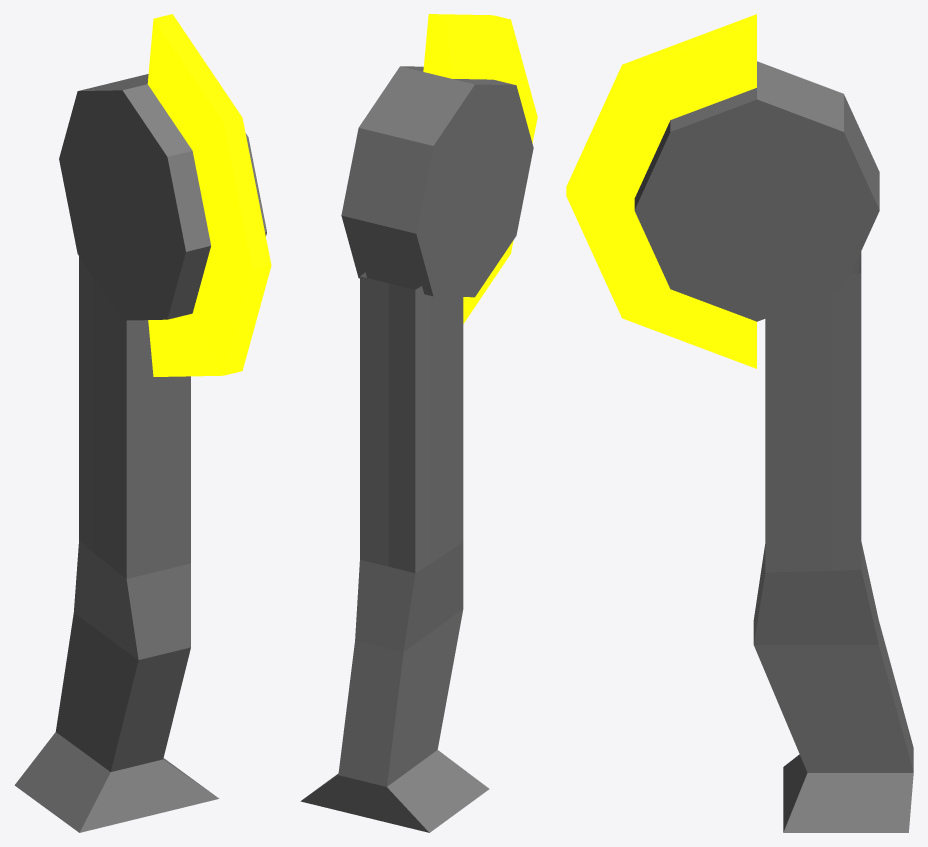
File: HeatAxe.fbx
3 views of the same model, side by side, from view 1: azimuth 30°, elevation 25°; view 2: azimuth 150°, elevation 25°; view 3: azimuth 270°, elevation 25° (orthographic). The views are drawn at different scales.
Parts seen in each view (by area): view 1: HeatAxe; view 2: HeatAxe; view 3: HeatAxe.
Part boxes in pixels (left/top/right/bottom): HeatAxe: left=14, top=14, right=271, bottom=832; HeatAxe: left=300, top=14, right=537, bottom=832; HeatAxe: left=566, top=14, right=913, bottom=832.
Bounding box in the file's own units: 54.44 × 121 × 301.
